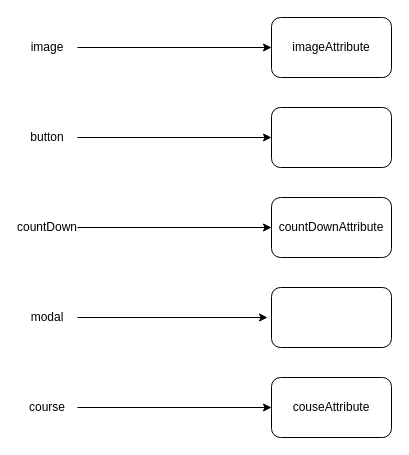
Some shapes in this 409 by 455 pixel diagram are drawn without their labels. Each missing label, with the centre of its shape:
buttonAttribute: the point at 331,137
modalAttribute: the point at 331,317
